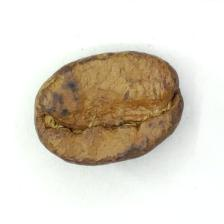NG: (40, 65, 179, 148)
